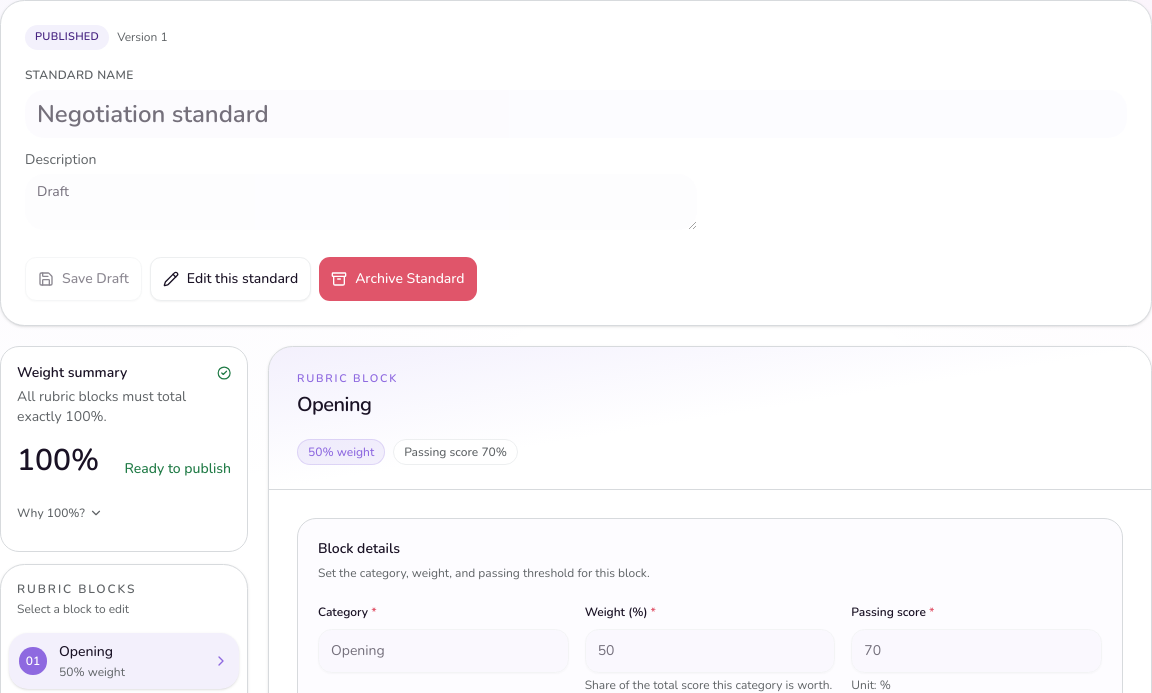
Scenario: StandardEditor publish and archive confirmation copy › explains that archived standards block new simulations while past sessions remain readable
This screenshot has width=1152, height=693.
Click the button "Archive Standard" at (398, 278), box [319, 256, 477, 300]
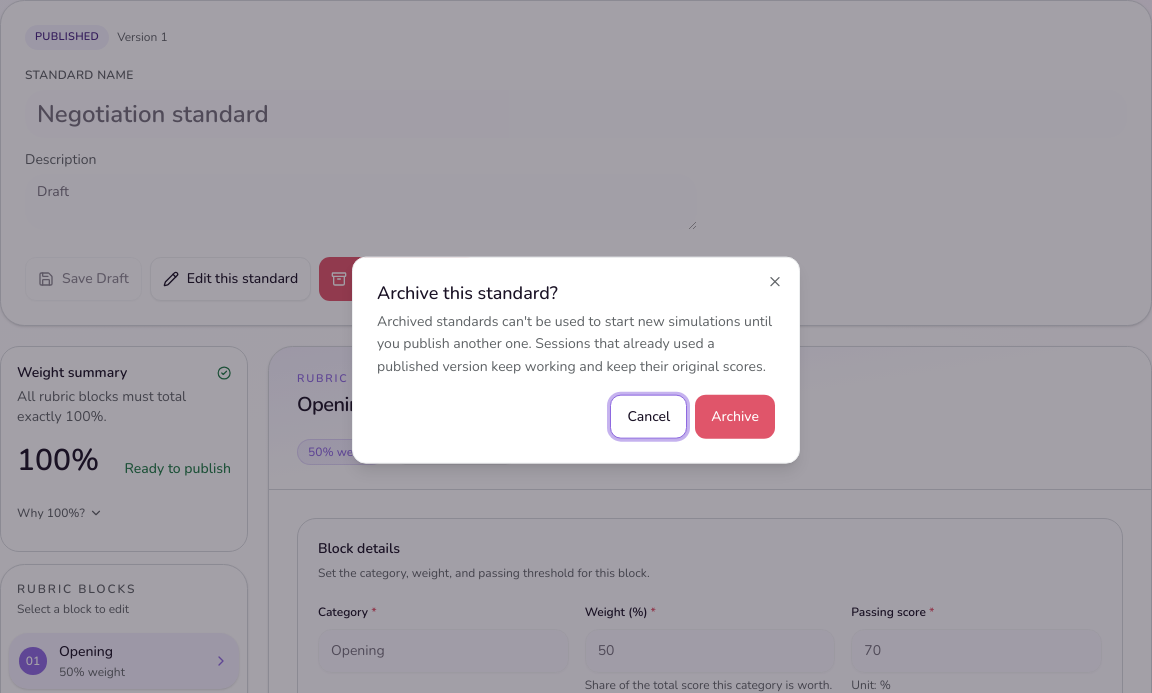
expect the heading "Archive this standard?" is shown: met, box [377, 281, 558, 305]
expect the text "Archived standards can't be used to start new simulations until you publish another one. Sessions that already used a pu" is shown: met, box [377, 311, 772, 376]
